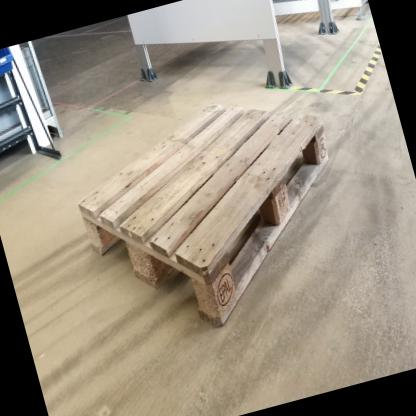BoxFace: (73, 95, 334, 335)
